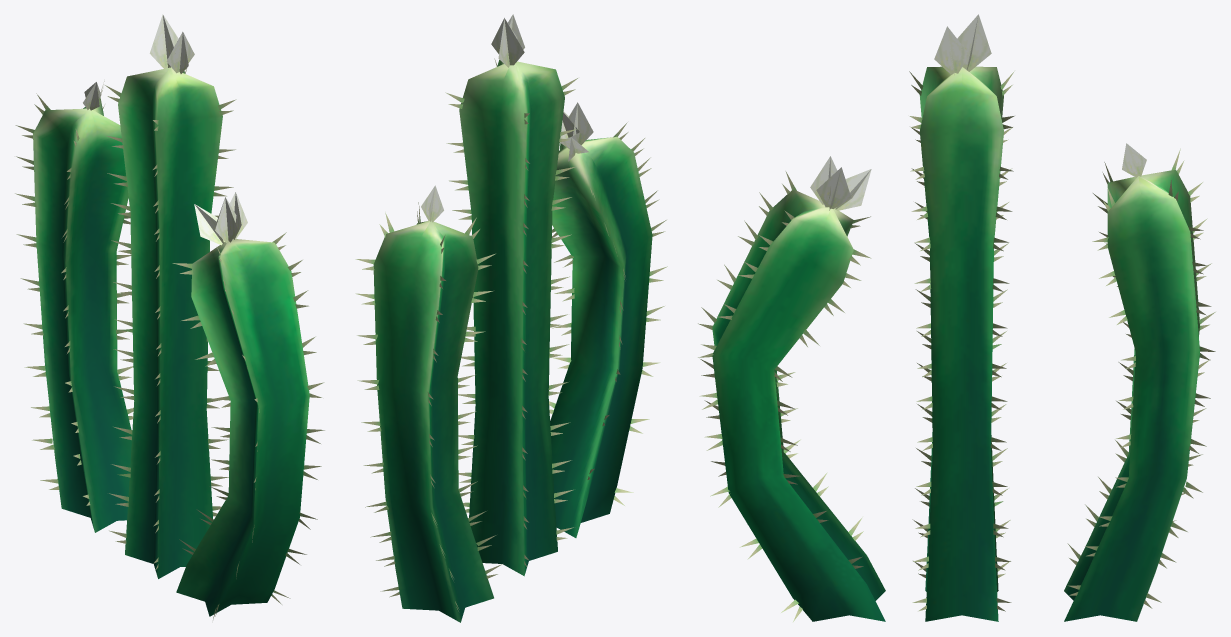
The model's file is cj_xianrenzhang1.fbx.
3 renders of one model, left to right at view 1: azimuth 30°, elevation 25°; view 2: azimuth 150°, elevation 25°; view 3: azimuth 270°, elevation 25°, orthographic. The views are drawn at different scales.
Parts seen in each view (by area): view 1: cj_xianrenzhang1, cj_xianrenzhang2, cj_xianrenzhang3; view 2: cj_xianrenzhang1, cj_xianrenzhang3, cj_xianrenzhang2; view 3: cj_xianrenzhang1, cj_xianrenzhang2, cj_xianrenzhang3.
Boxes of the visible parts, left/top/right/bottom form: cj_xianrenzhang1: left=105, top=14, right=236, bottom=578; cj_xianrenzhang2: left=172, top=192, right=324, bottom=619; cj_xianrenzhang3: left=15, top=81, right=133, bottom=532; cj_xianrenzhang1: left=445, top=14, right=577, bottom=576; cj_xianrenzhang3: left=355, top=185, right=502, bottom=622; cj_xianrenzhang2: left=549, top=102, right=667, bottom=537; cj_xianrenzhang1: left=909, top=14, right=1014, bottom=621; cj_xianrenzhang2: left=698, top=156, right=885, bottom=621; cj_xianrenzhang3: left=1064, top=143, right=1215, bottom=621.
Bounding box in the file's own units: 196 × 1106 × 879.
